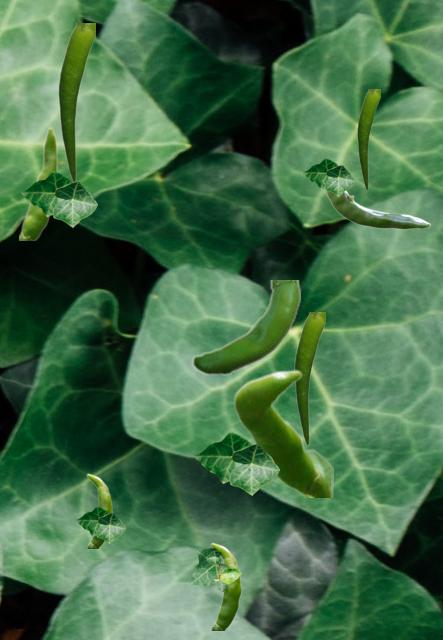green_chili: (233, 369, 332, 496), (191, 280, 299, 375), (58, 23, 94, 181), (19, 126, 57, 239), (294, 312, 324, 444), (326, 191, 429, 228), (210, 542, 241, 629), (357, 89, 379, 189), (86, 473, 112, 547)
